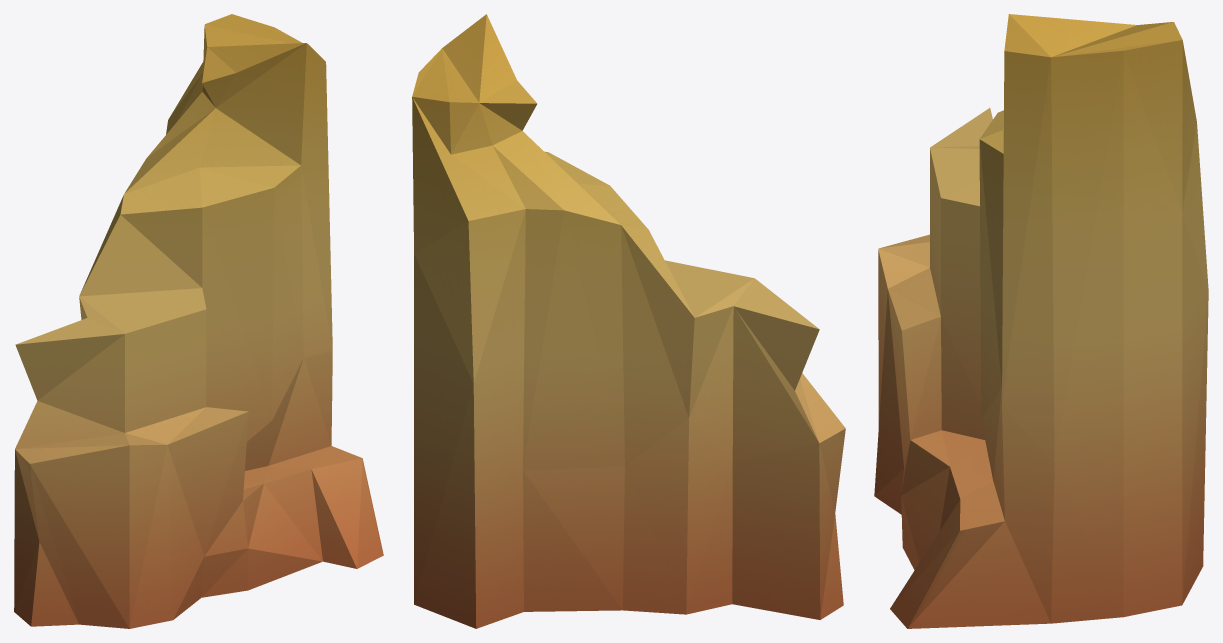
File: Canyon_Mountains_003.FBX
The picture shows the model from 3 angles, left to right: view 1: azimuth 30°, elevation 25°; view 2: azimuth 150°, elevation 25°; view 3: azimuth 270°, elevation 25°; orthographic projection. The views are drawn at different scales.
Visible parts, largest first — view 1: Canyon_Mountains_003; view 2: Canyon_Mountains_003; view 3: Canyon_Mountains_003.
Boxes of the visible parts, box(x1,y1,x2,y2) form: Canyon_Mountains_003: box(14, 14, 383, 628); Canyon_Mountains_003: box(412, 14, 845, 628); Canyon_Mountains_003: box(874, 14, 1208, 628).
Size of the model in its own units: 520 by 717 by 366.
Materials: 1 (1 with a texture image).
